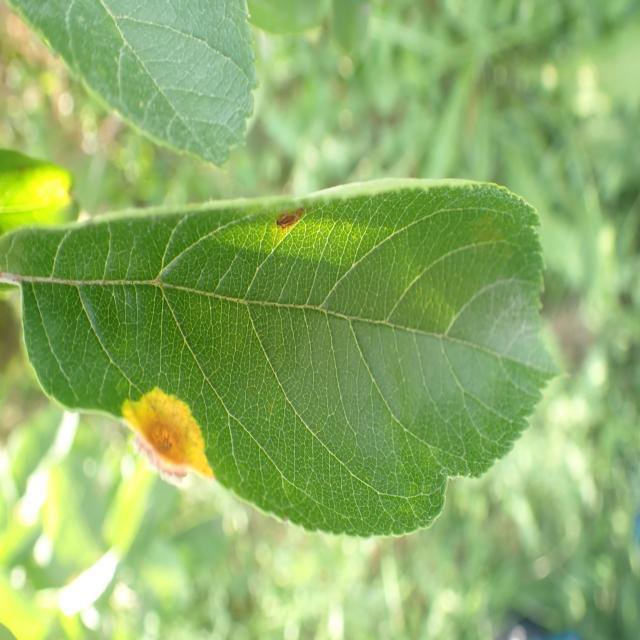rust: (4, 179, 568, 540)
